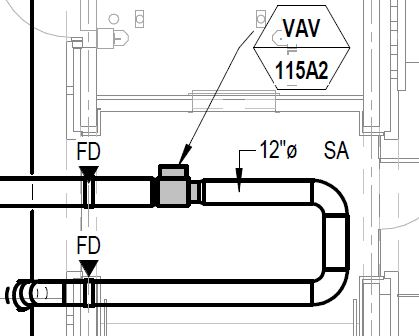VAV: (140, 139, 217, 213)
